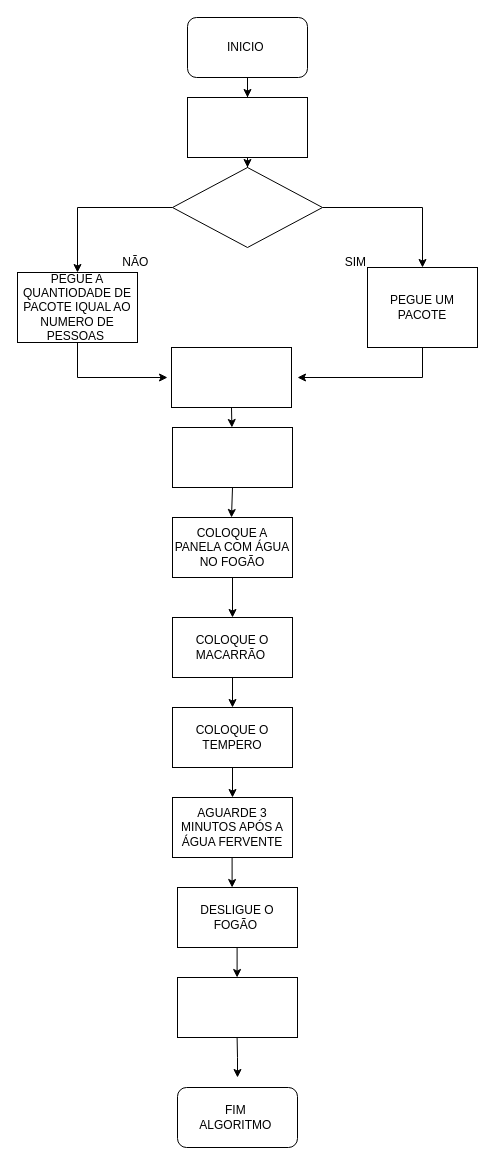
This 495x1165 diagram has some shape labels left out. Each missing label, with the box of its shape:
LIGAR O FOGÃO: (172, 426, 292, 488)
PARA UMA PESSOA?: (172, 166, 322, 248)
PEGUE UMA PANELA ADEQUADA: (186, 96, 308, 158)
SEPARE A PORÇÃO DA ÁGUA: (170, 346, 292, 408)
SIRVA: (176, 976, 298, 1038)
